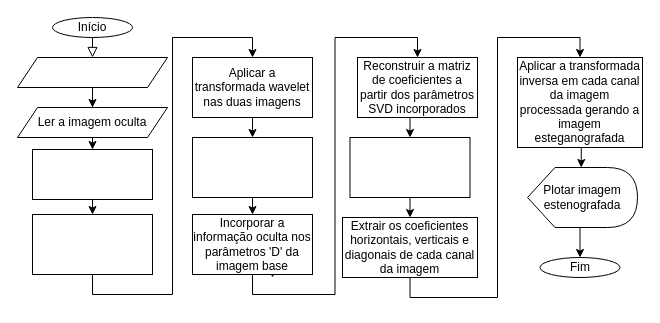
The diagram is 660 pixels wide and 323 high, and some of its shapes have lost their labels. Each missing label, with the centre of its shape:
Concatenar os três canais RGB reconstruídos em uma única matriz: the point at 409,167
Converter os arquivos para o formato RGB: the point at 92,174
Decompor as imagens em SVD: the point at 252,167
Ler a imagem base: the point at 92,72
Separar os canais para as duas imagens: the point at 92,244
